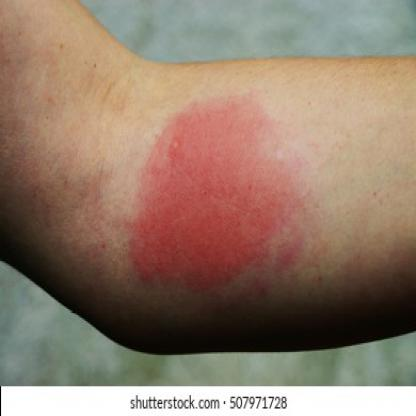Wasp: (128, 88, 303, 300)
